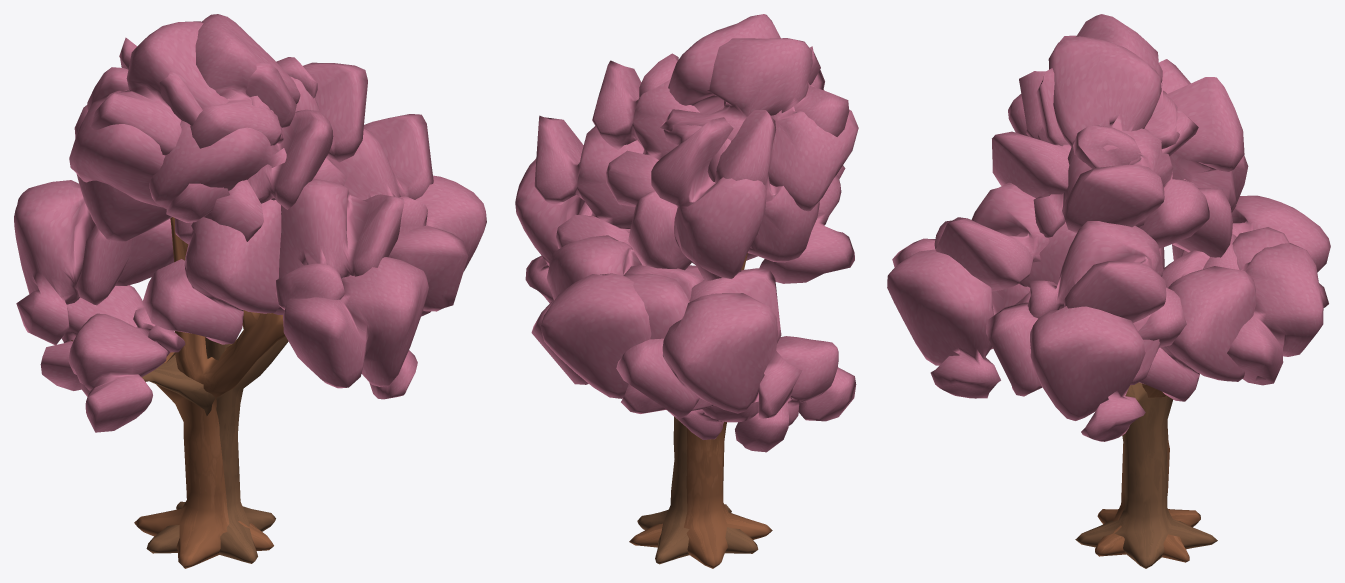
Rendered from Tree10.fbx.
3 renders of one model, left to right at view 1: azimuth 30°, elevation 25°; view 2: azimuth 150°, elevation 25°; view 3: azimuth 270°, elevation 25°, orthographic. The views are drawn at different scales.
Visible parts, largest first — view 1: tree10; view 2: tree10; view 3: tree10.
Boxes of the visible parts, <box> form: tree10: <box>14,14,486,568</box>; tree10: <box>515,14,858,568</box>; tree10: <box>887,14,1330,568</box>.
Bounding box in the file's own units: 7.83 × 11.12 × 9.04.
